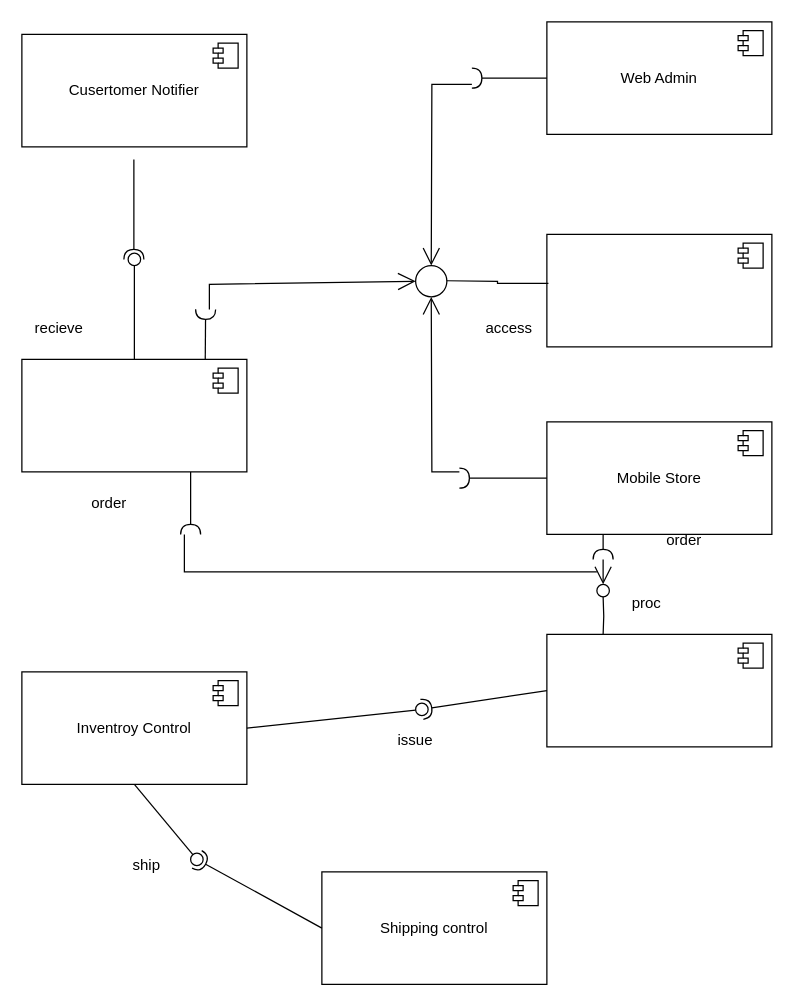
Image size: 794x1006. Some labels were removed from this diagram. Here are the shapes that lost their labels. From the top down, the centre of each, then its label:
At (x=659, y=290): "Product Catalogue".
At (x=134, y=415): "Web store".
At (x=659, y=690): "Order Manager".
